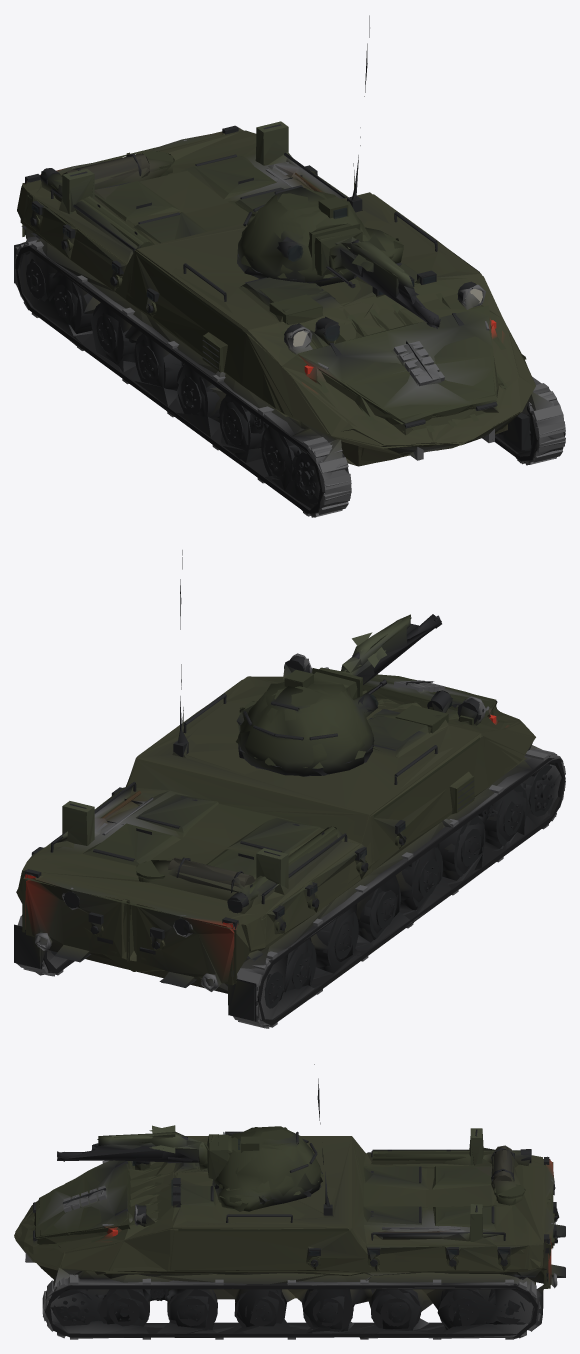
The model's file is bmp1.glb.
3 renders of one model, top to bottom at view 1: azimuth 30°, elevation 25°; view 2: azimuth 150°, elevation 25°; view 3: azimuth 270°, elevation 25°, orthographic. The views are drawn at different scales.
Parts seen in each view (by area): view 1: L1_05_hull_opaque, L2_08_hull_opaque, L0_01_hull_opaque, L1_07_turret_opaque, L2_09_turret_opaque, L0_03_turret_opaque; view 2: L1_05_hull_opaque, L2_08_hull_opaque, L0_01_hull_opaque, L1_07_turret_opaque, L0_03_turret_opaque, L2_09_turret_opaque; view 3: L1_05_hull_opaque, L2_08_hull_opaque, L0_01_hull_opaque, L1_07_turret_opaque, L2_09_turret_opaque, L0_03_turret_opaque.
Boxes of the visible parts, x1,y1,x2,y2 form: L1_05_hull_opaque: [15, 15, 564, 517]; L2_08_hull_opaque: [15, 43, 565, 515]; L0_01_hull_opaque: [14, 121, 565, 517]; L1_07_turret_opaque: [237, 187, 439, 327]; L2_09_turret_opaque: [237, 191, 432, 325]; L0_03_turret_opaque: [237, 185, 440, 328]; L1_05_hull_opaque: [14, 550, 564, 1027]; L2_08_hull_opaque: [16, 579, 560, 1023]; L0_01_hull_opaque: [14, 653, 565, 1028]; L1_07_turret_opaque: [236, 614, 441, 775]; L0_03_turret_opaque: [236, 615, 441, 776]; L2_09_turret_opaque: [237, 620, 432, 776]; L1_05_hull_opaque: [14, 1064, 565, 1338]; L2_08_hull_opaque: [23, 1078, 553, 1338]; L0_01_hull_opaque: [14, 1128, 565, 1339]; L1_07_turret_opaque: [57, 1125, 321, 1211]; L2_09_turret_opaque: [66, 1126, 322, 1210]; L0_03_turret_opaque: [57, 1125, 323, 1211].
Bounding box in the file's own units: 3.06 × 3.82 × 7.
